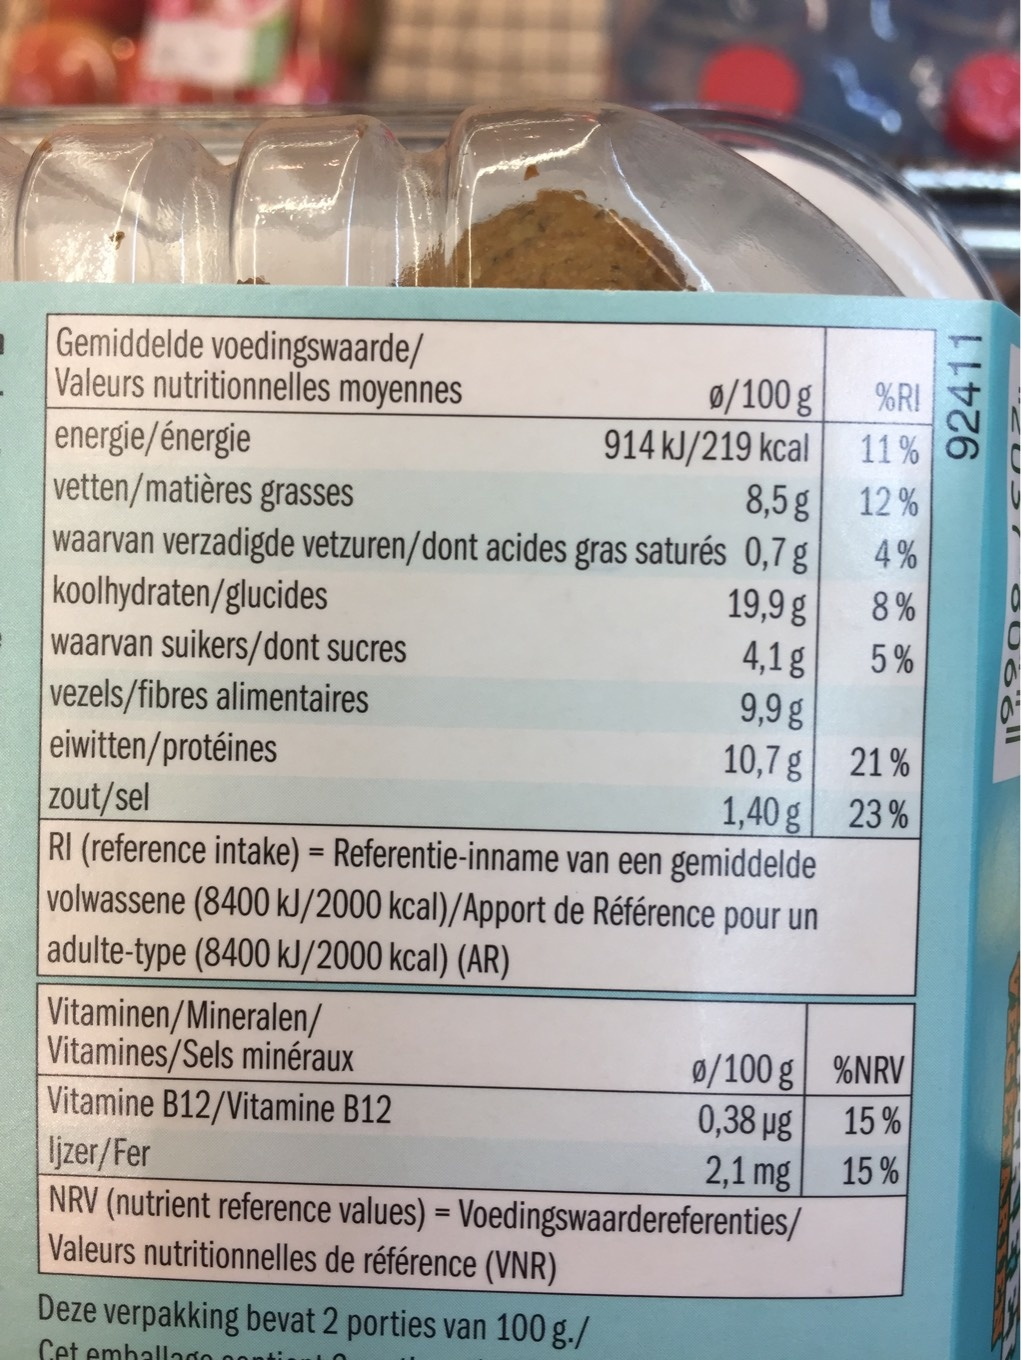column: (43, 323, 811, 823), (849, 325, 920, 830)
table: (33, 305, 939, 837)
